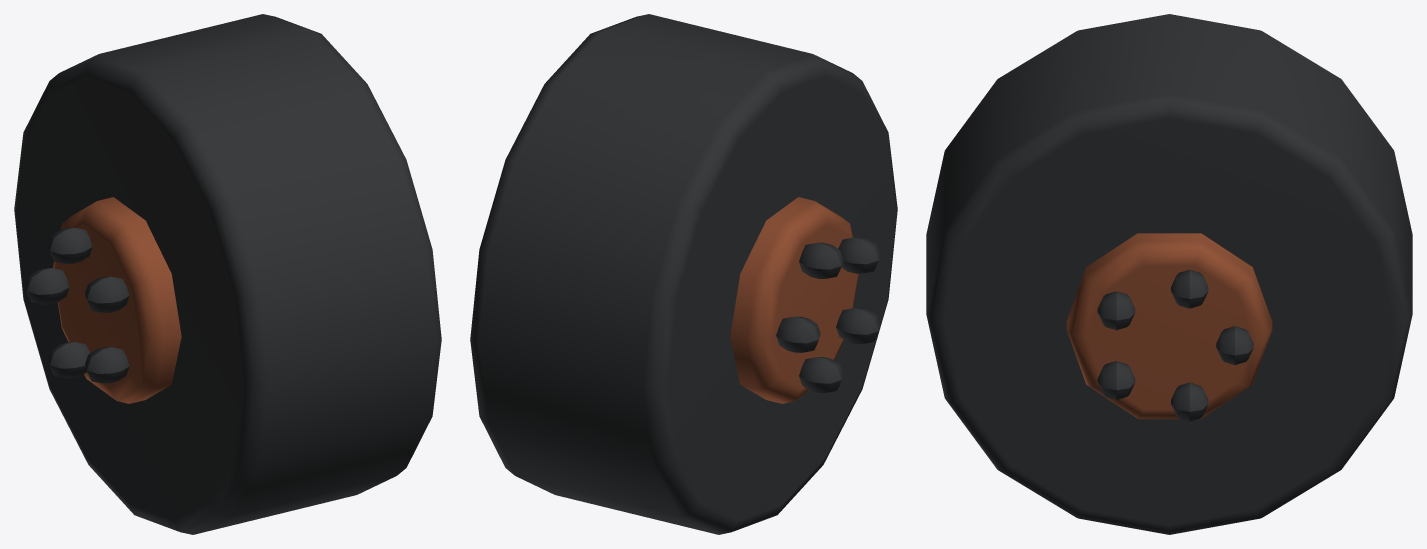
Rendered from wheel-axle-sm.glb.
3 views of the same model, side by side, from view 1: azimuth 30°, elevation 25°; view 2: azimuth 150°, elevation 25°; view 3: azimuth 270°, elevation 25° (orthographic).
Parts seen in each view (by area): view 1: wheel-axle; view 2: wheel-axle; view 3: wheel-axle.
Boxes of the visible parts, x1,y1,x2,y2 form: wheel-axle: (14,14,441,534); wheel-axle: (470,14,897,534); wheel-axle: (926,14,1412,534).
Bounding box in the file's own units: 0.41 × 0.52 × 0.52.
